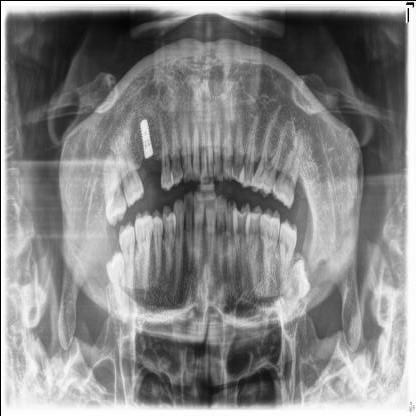ITI: (134, 116, 154, 160)
